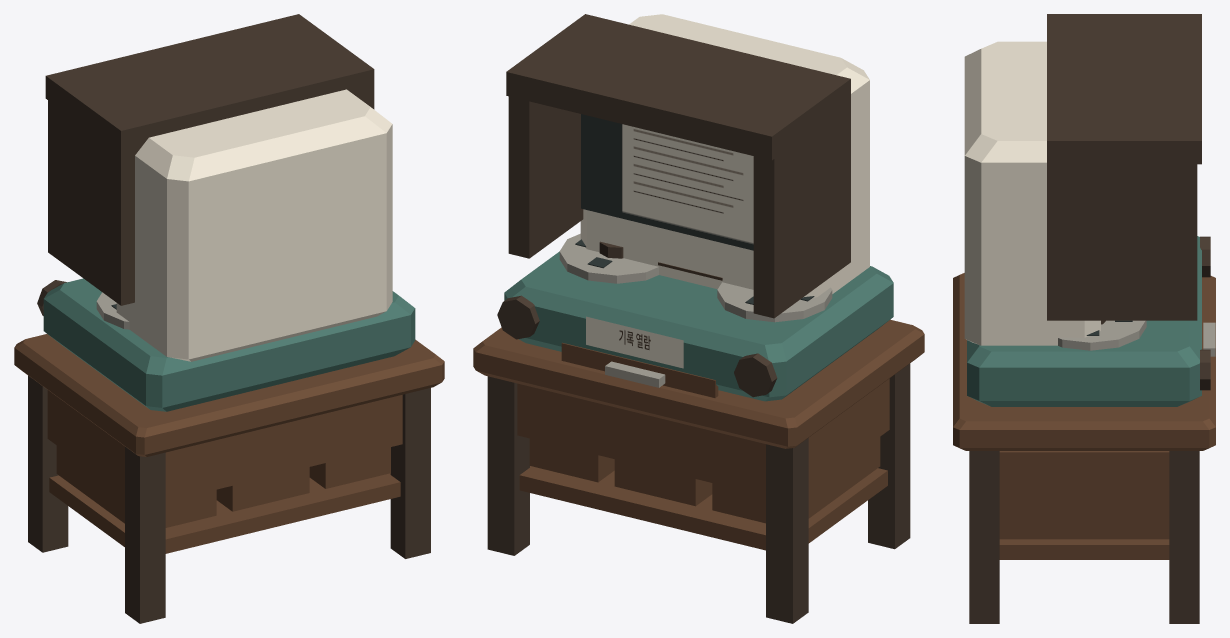
Rendered from S06_Microfilm_Reader.fbx.
3 renders of one model, left to right at view 1: azimuth 30°, elevation 25°; view 2: azimuth 150°, elevation 25°; view 3: azimuth 270°, elevation 25°, orthographic. The views are drawn at different scales.
Parts seen in each view (by area): view 1: Structure; view 2: Structure, Screen; view 3: Structure.
Boxes of the visible parts, x1=… form: Structure: x1=14, y1=14, x2=444, y2=623; Structure: x1=473, y1=14, x2=924, y2=623; Screen: x1=581, y1=114, x2=753, y2=250; Structure: x1=953, y1=14, x2=1215, y2=623.
Size of the model in its own units: 1.56 by 2.23 by 1.12.
Materials: 8 (1 with a texture image).
